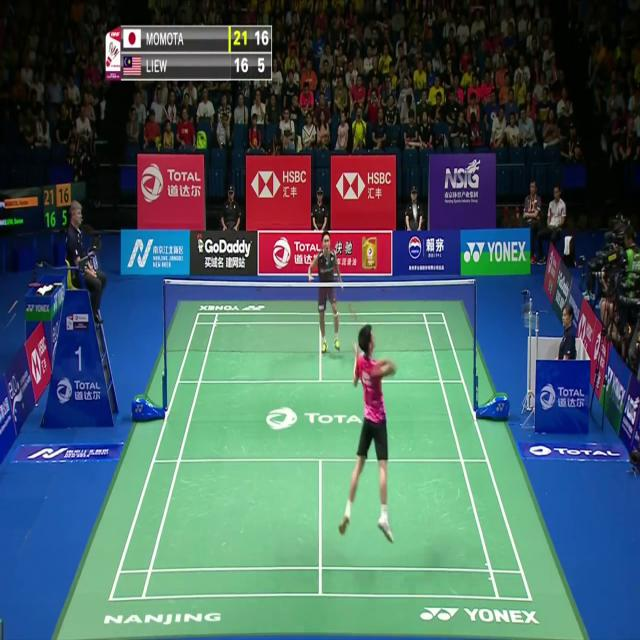Shuttlecock: (413, 207, 419, 218)
